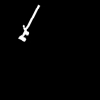double_crochet: (19, 5, 39, 40)
